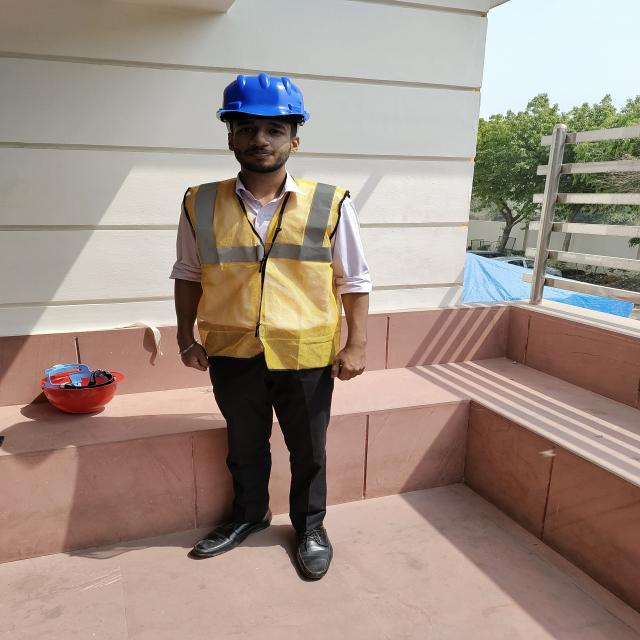safe: (176, 72, 370, 580)
